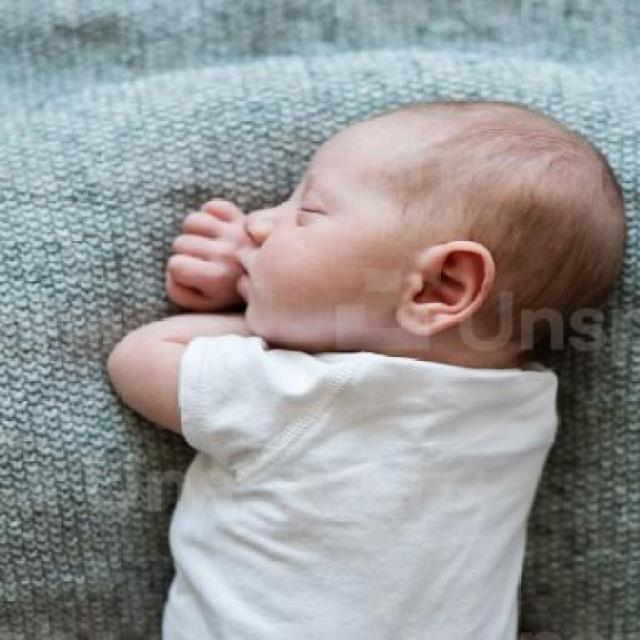baby: (101, 96, 624, 638)
